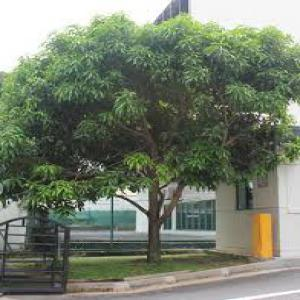Tree: (2, 8, 298, 264)
